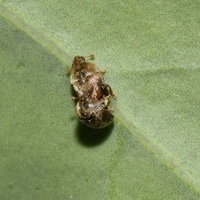insect: (69, 54, 115, 128)
